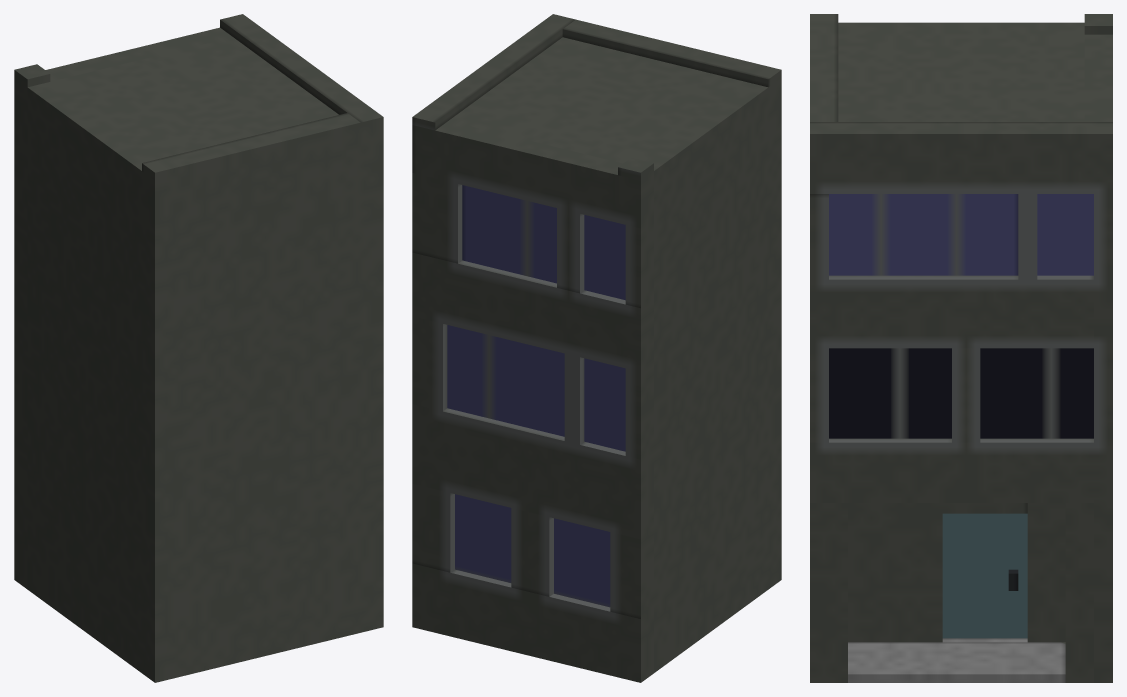
Rendered from wejscie_033.dae.
The picture shows the model from 3 angles, left to right: view 1: azimuth 30°, elevation 25°; view 2: azimuth 150°, elevation 25°; view 3: azimuth 270°, elevation 25°; orthographic projection. The views are drawn at different scales.
Visible parts, largest first — view 1: Content; view 2: Content; view 3: Content.
Part boxes in pixels (x1=…): Content: x1=14, y1=14, x2=383, y2=682; Content: x1=412, y1=14, x2=781, y2=682; Content: x1=810, y1=14, x2=1112, y2=682.
Bounding box in the file's own units: 30 × 64 × 32.
1 material, 1 textured.
